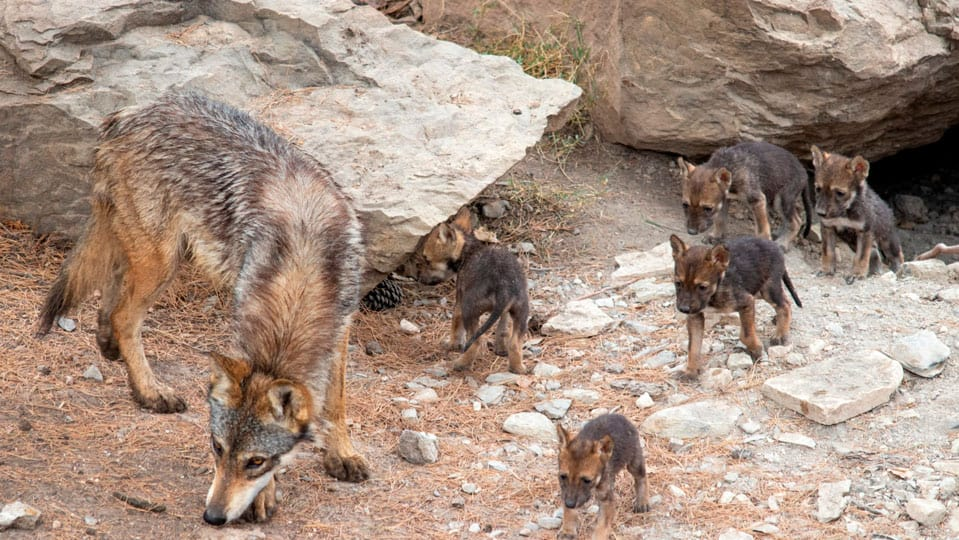Lobo: (45, 79, 383, 522), (650, 222, 809, 385), (409, 201, 540, 361), (648, 135, 812, 237), (523, 403, 662, 520), (804, 134, 918, 272)
